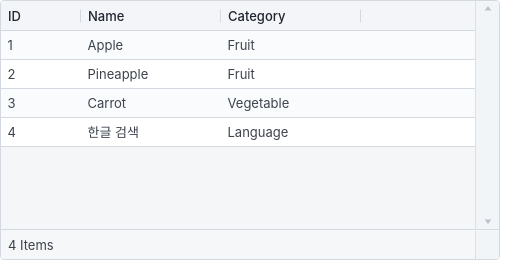
BGrid search and context menu › keeps a controlled Hangul draft stable until IME composition ends
Press f
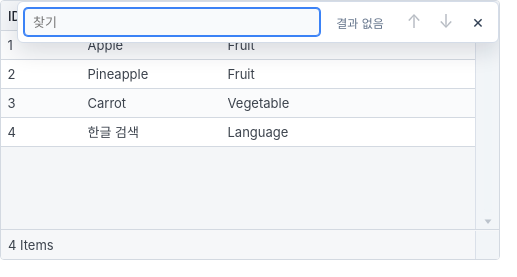
Type "ㅎ" into the field named "그리드 데이터 찾기". click: (172, 22)
box: x1=24 y1=8 x2=320 y2=36
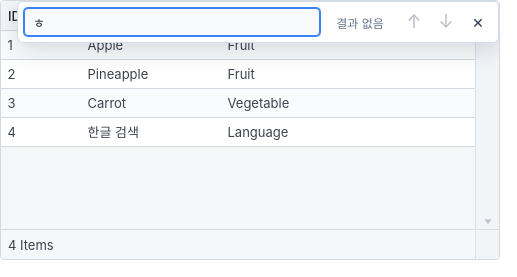
Replace the text in the field named "그리드 데이터 찾기" with "한글". click: (172, 22)
box: x1=24 y1=8 x2=320 y2=36
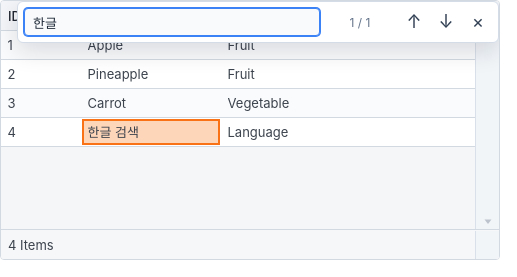
Result: the text "1 / 1" is shown at x1=350 y1=14 x2=370 y2=30
